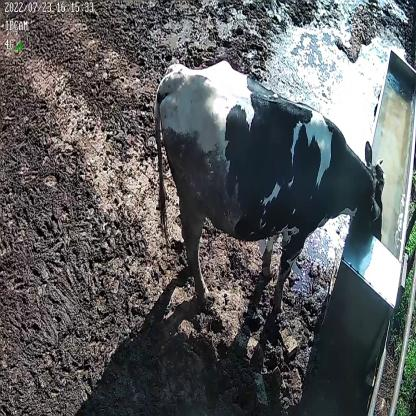cow: (153, 60, 386, 313)
